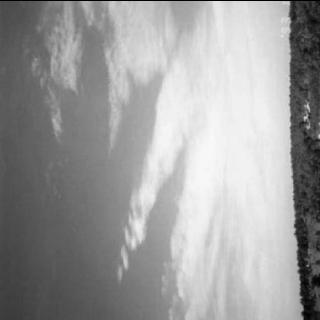Cirrocumulus: (1, 0, 294, 320)
